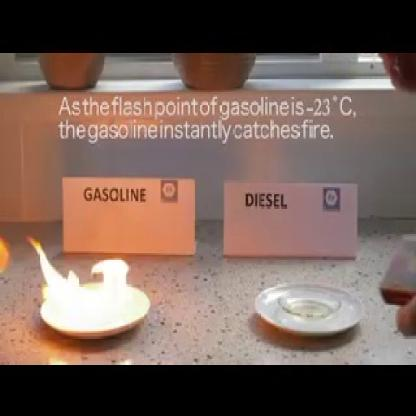fire: (23, 234, 135, 331)
